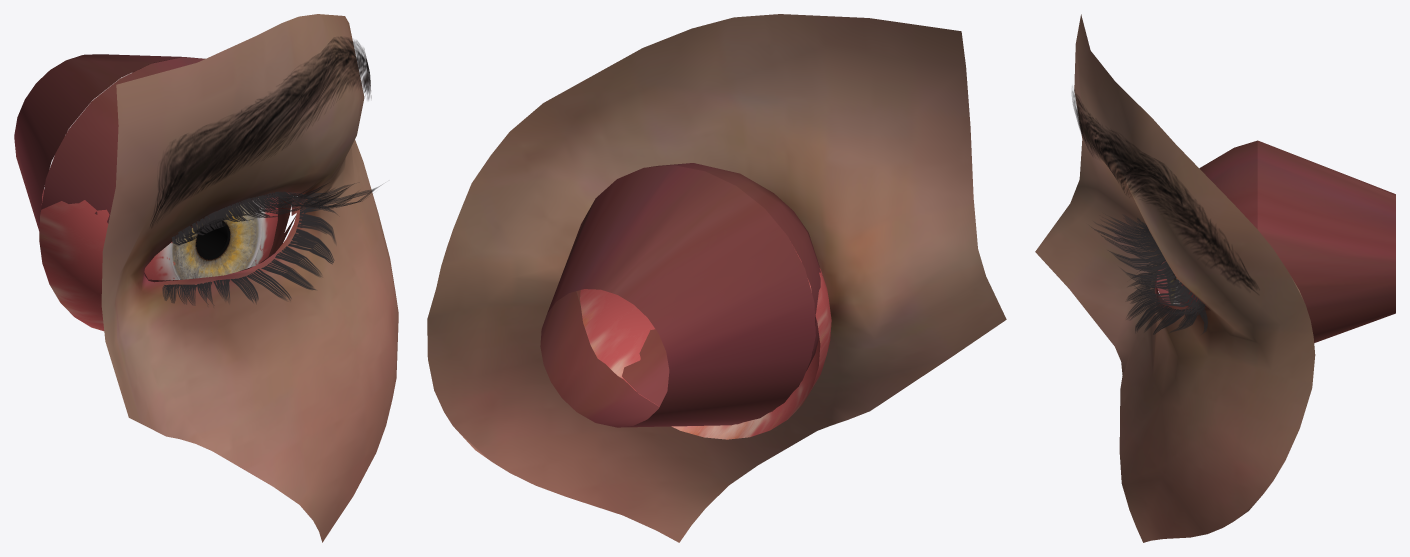
The model's file is face-eye.glb.
3 views of the same model, side by side, from view 1: azimuth 30°, elevation 25°; view 2: azimuth 150°, elevation 25°; view 3: azimuth 270°, elevation 25° (orthographic). The views are drawn at different scales.
Visible parts, largest first — view 1: Face, Eye, EyeBrow, Eyelashes, Eyelashes.001; view 2: Face, Eye; view 3: Face, EyeBrow, Eyelashes, Eyelashes.001.
Boxes of the visible parts, x1=… form: Face: x1=14, y1=14, x2=398, y2=542; Eye: x1=39, y1=197, x2=278, y2=331; EyeBrow: x1=150, y1=36, x2=371, y2=227; Eyelashes: x1=162, y1=184, x2=379, y2=304; Eyelashes.001: x1=163, y1=184, x2=377, y2=304; Face: x1=427, y1=14, x2=1006, y2=542; Eye: x1=580, y1=251, x2=831, y2=439; Face: x1=1035, y1=14, x2=1395, y2=542; EyeBrow: x1=1072, y1=89, x2=1259, y2=294; Eyelashes: x1=1093, y1=215, x2=1207, y2=334; Eyelashes.001: x1=1094, y1=216, x2=1207, y2=334.
Bounding box in the file's own units: 0.5256 × 0.6532 × 0.4921.
Materials: 4 (4 with a texture image).
